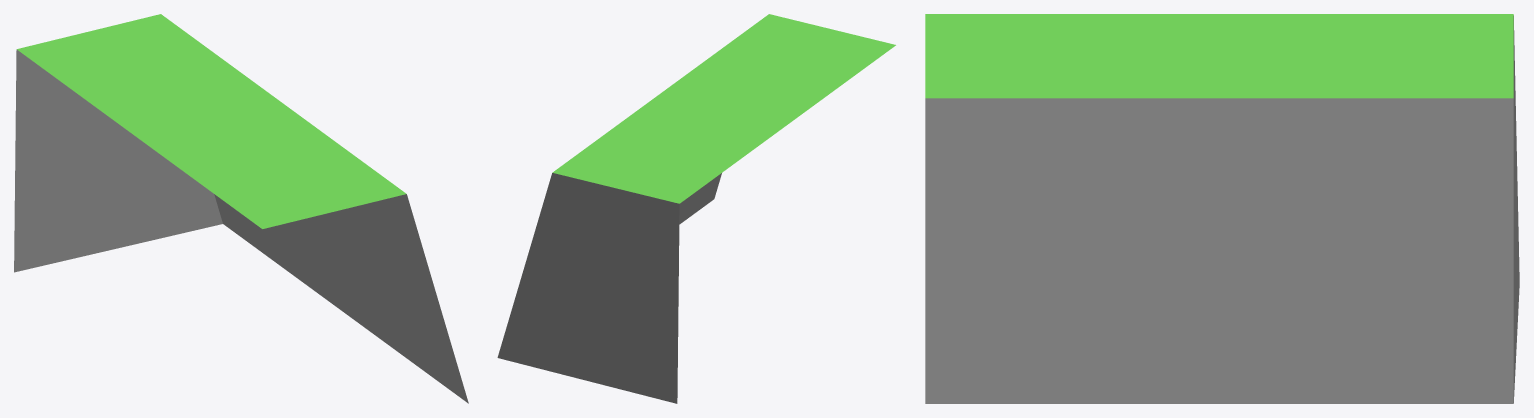
Rendered from CliffEndCornerF.glb.
3 renders of one model, left to right at view 1: azimuth 30°, elevation 25°; view 2: azimuth 150°, elevation 25°; view 3: azimuth 270°, elevation 25°, orthographic. The views are drawn at different scales.
Visible parts, largest first — view 1: CliffEndCornerF; view 2: CliffEndCornerF; view 3: CliffEndCornerF.
Part boxes in pixels (box(x1,y1,x2,y2)): CliffEndCornerF: box(14, 14, 468, 403); CliffEndCornerF: box(497, 14, 895, 403); CliffEndCornerF: box(925, 14, 1519, 403).
Bounding box in the file's own units: 0.48 × 0.5 × 1.
